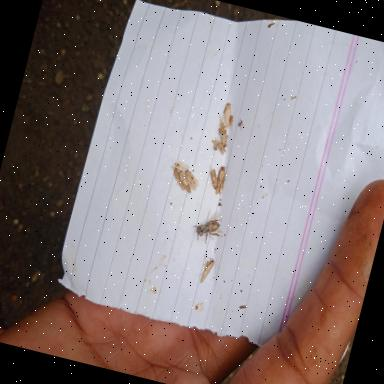pbw: (196, 253, 219, 285), (212, 113, 233, 147), (213, 164, 230, 195), (175, 170, 196, 194), (181, 166, 202, 190), (204, 164, 222, 189), (168, 168, 188, 190), (219, 101, 235, 127), (209, 137, 229, 156), (170, 160, 186, 174), (227, 114, 235, 126)
